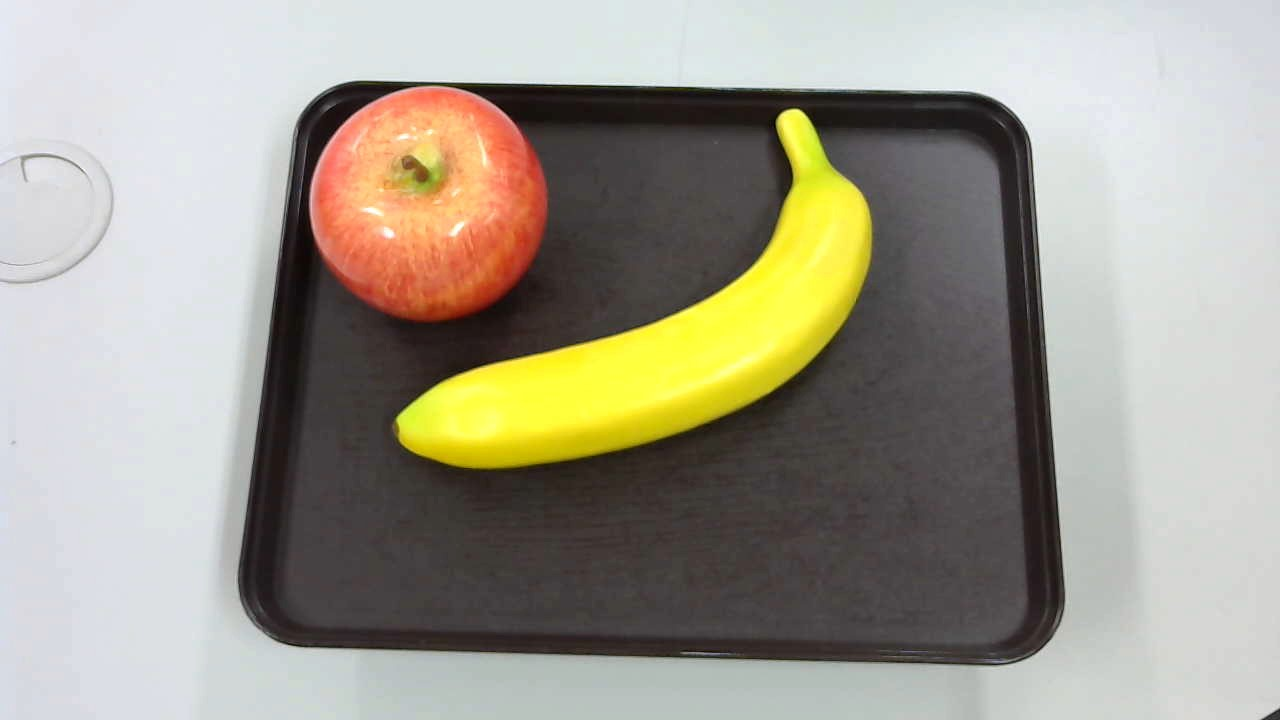banana: (387, 104, 891, 474)
red apple: (305, 86, 547, 322)
